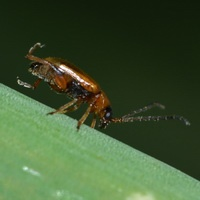insect: (17, 42, 189, 129)
